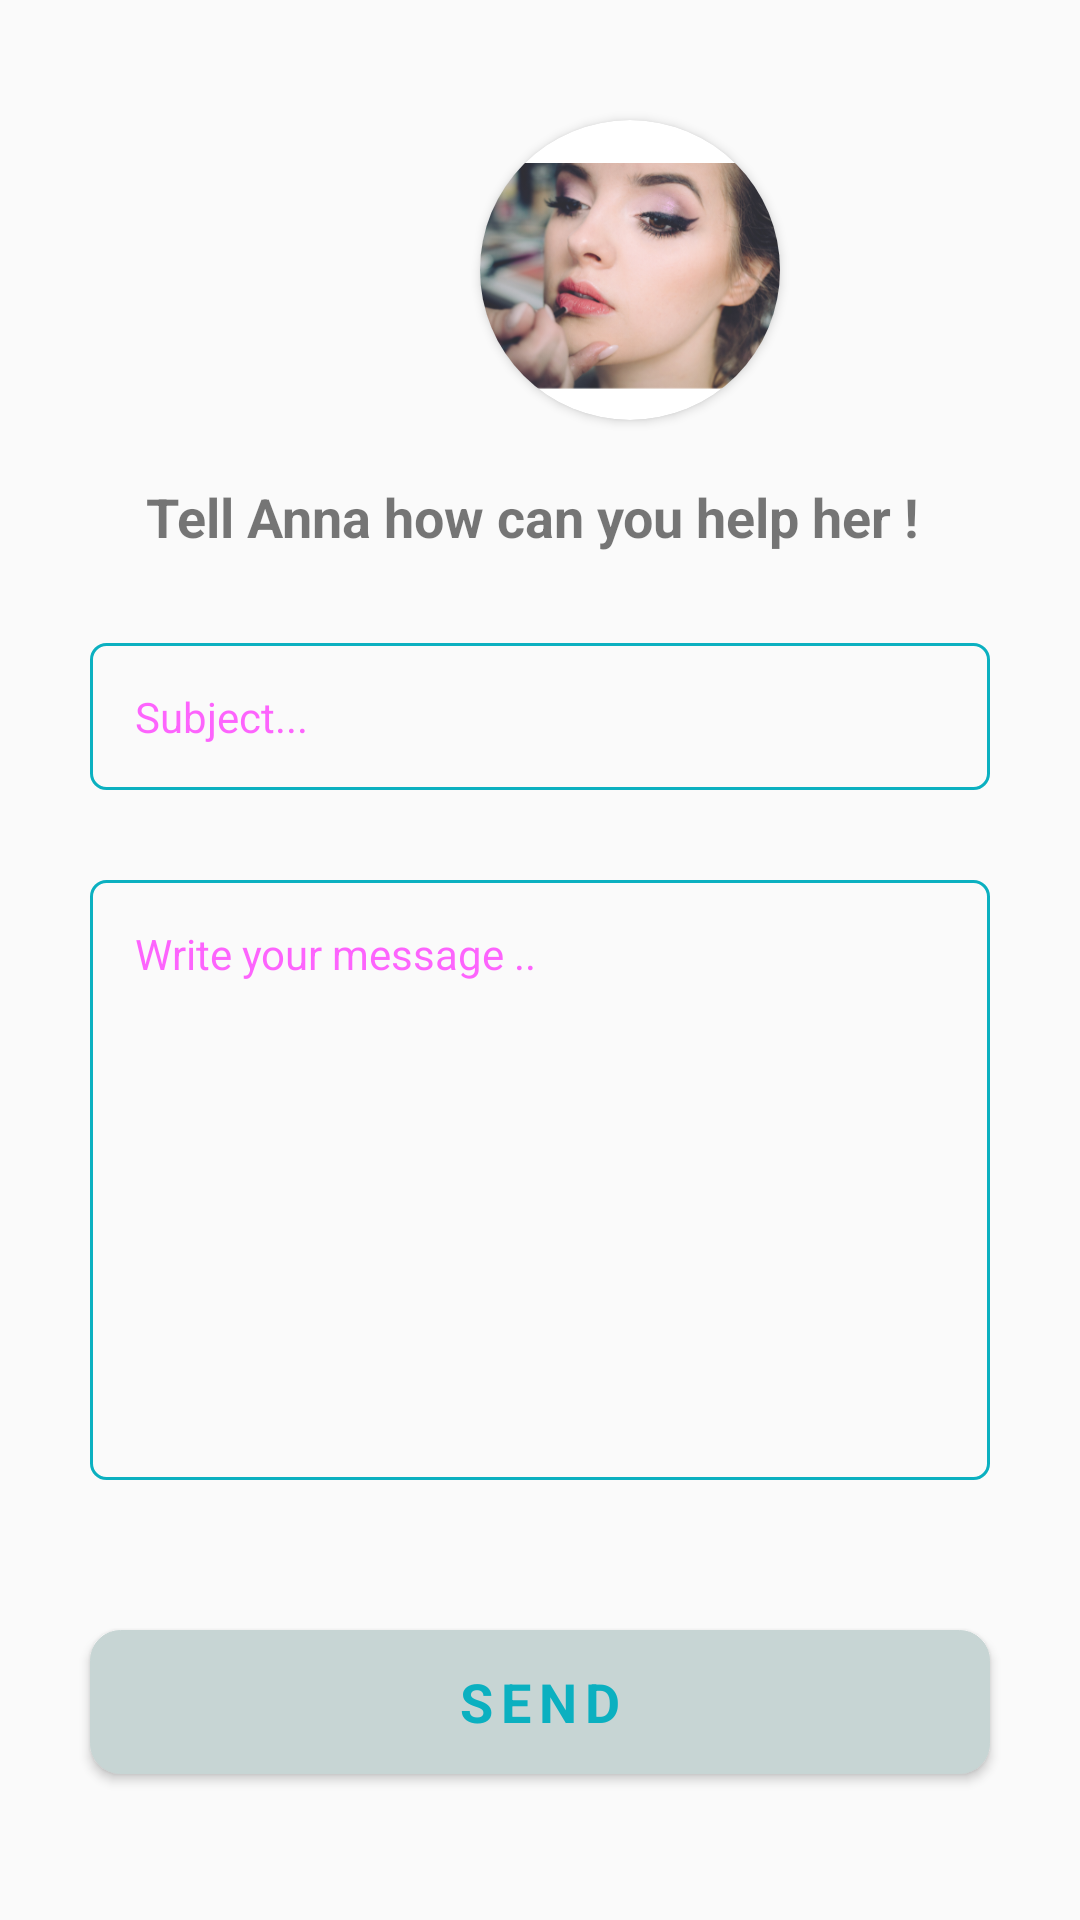

Icons on this 1080x1920 Android screen, each with the point to tap as [x,y]:
woman: [630,291]
